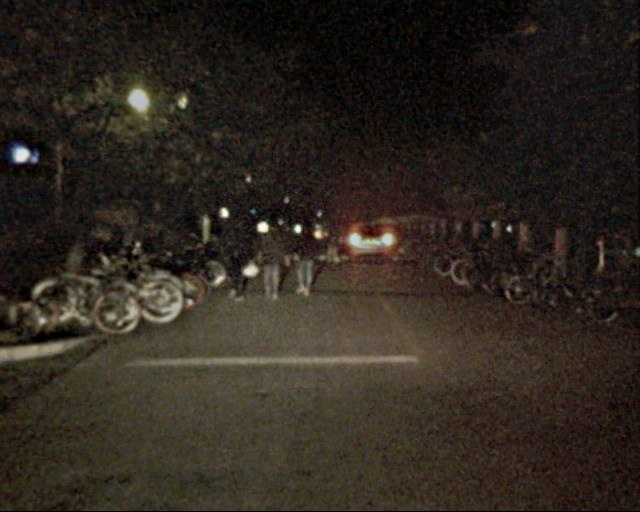person: (224, 215, 255, 305), (287, 220, 320, 300), (258, 221, 286, 303), (325, 222, 343, 267)
